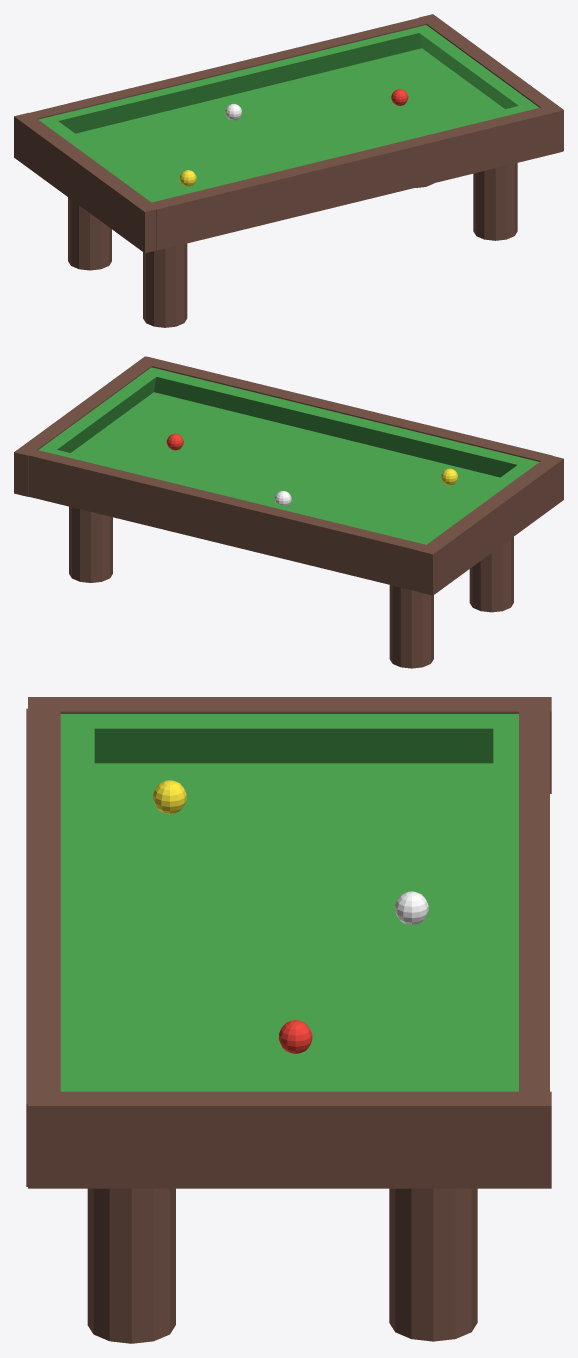
File: 3BallBiliards.fbx
The picture shows the model from 3 angles, top to bottom: view 1: azimuth 30°, elevation 25°; view 2: azimuth 150°, elevation 25°; view 3: azimuth 270°, elevation 25°; orthographic projection. The views are drawn at different scales.
Parts seen in each view (by area): view 1: mesh_1599636000, mesh_894893394, mesh_11698911, mesh_1163648388, mesh_1285174039, mesh_1634495982, mesh_1308816409, mesh_331802173, mesh_913193268, mesh_1192521371, mesh_1950258607, mesh_1166869751; view 2: mesh_1599636000, mesh_1285174039, mesh_331802173, mesh_1163648388, mesh_894893394, mesh_1192521371, mesh_842878239, mesh_913193268, mesh_1950258607, mesh_1634495982, mesh_11698911, mesh_1166869751; view 3: mesh_1599636000, mesh_1950258607, mesh_1166869751, mesh_894893394, mesh_1308816409, mesh_842878239, mesh_331802173, mesh_1285174039, mesh_11698911, mesh_1163648388, mesh_913193268, mesh_1328330885 (+2 smaller).
Boxes of the visible parts, box(x1,y1,x2,y2) form: mesh_1599636000: box(76, 48, 504, 193); mesh_894893394: box(149, 104, 562, 250); mesh_11698911: box(52, 25, 432, 133); mesh_1163648388: box(14, 112, 156, 253); mesh_1285174039: box(27, 17, 427, 119); mesh_1634495982: box(143, 243, 187, 327); mesh_1308816409: box(473, 163, 517, 240); mesh_331802173: box(144, 106, 525, 202); mesh_913193268: box(419, 29, 539, 110); mesh_1192521371: box(68, 197, 111, 270); mesh_1950258607: box(418, 14, 563, 151); mesh_1166869751: box(39, 116, 157, 197); mesh_1599636000: box(71, 392, 499, 537); mesh_1285174039: box(27, 449, 427, 591); mesh_331802173: box(154, 370, 538, 477); mesh_1163648388: box(418, 456, 563, 595); mesh_894893394: box(139, 356, 552, 461); mesh_1192521371: box(389, 585, 433, 668); mesh_842878239: box(69, 506, 112, 582); mesh_913193268: box(43, 367, 164, 452); mesh_1950258607: box(14, 356, 151, 496); mesh_1634495982: box(469, 537, 513, 612); mesh_11698911: box(38, 446, 417, 541); mesh_1166869751: box(413, 465, 530, 544); mesh_1599636000: box(94, 763, 493, 1080); mesh_1950258607: box(28, 1091, 551, 1188); mesh_1166869751: box(94, 714, 518, 763); mesh_894893394: box(26, 708, 60, 1186); mesh_1308816409: box(87, 1188, 175, 1343); mesh_842878239: box(389, 1188, 477, 1341); mesh_331802173: box(60, 714, 94, 1080); mesh_1285174039: box(519, 709, 549, 1093); mesh_11698911: box(493, 728, 518, 1091); mesh_1163648388: box(28, 697, 551, 793); mesh_913193268: box(60, 1081, 493, 1091); mesh_1328330885: box(153, 780, 186, 814).
Size of the model in its own units: 340 by 106 by 185.
